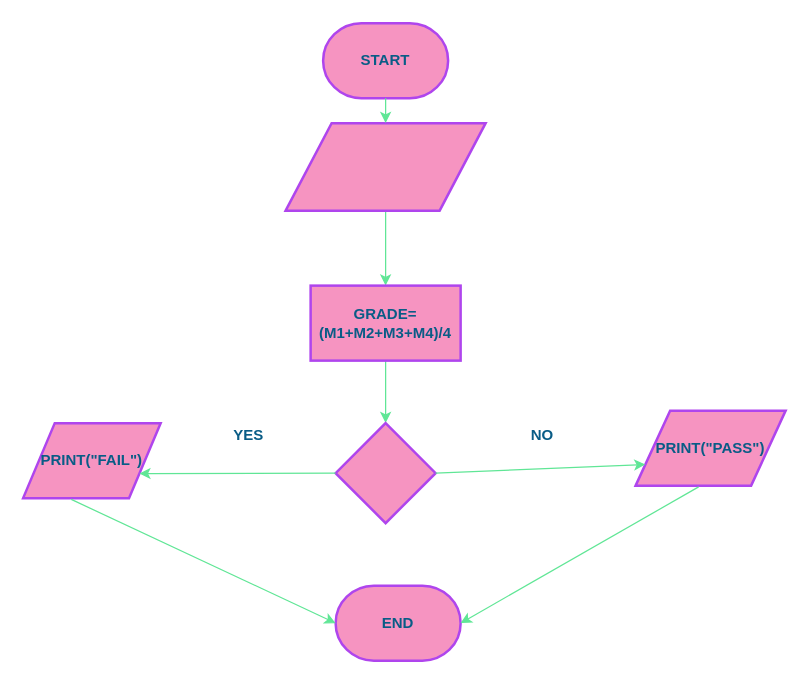
Image size: 808x683. Some labels were removed from this diagram. Here are the shapes that lost their labels. From the top down, the centre of each, then its label:
At point 385,166: "INPUT M1,M2,M3,M4".
At point 385,472: "IF GRADE< 60".
